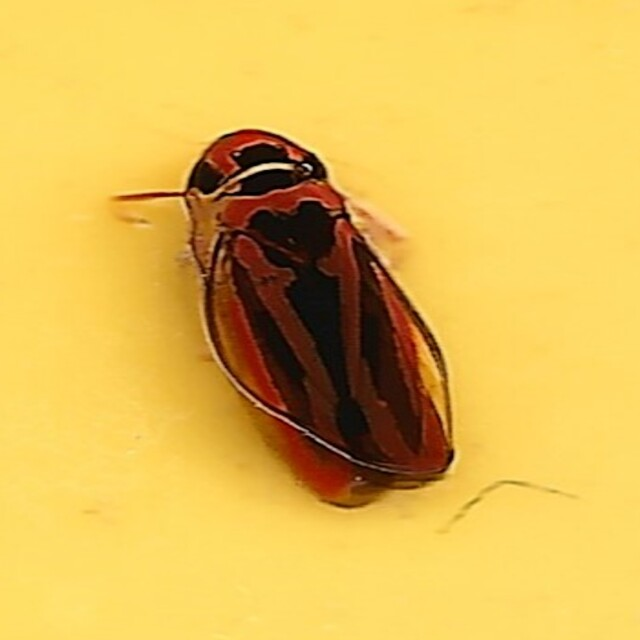Hemiptera: (183, 129, 457, 511)
